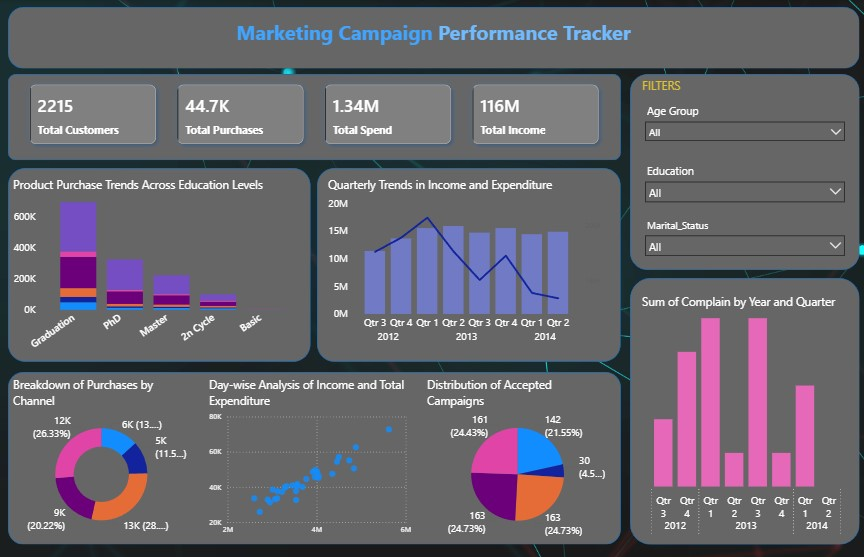

The page's visual inventory and layout, read from the dashboard file:
{"tool":"powerbi","page":{"name":"Page 1","canvas":[1400,900],"ordinal":0},"visuals":[{"type":"shape","box":[1017.5,121.1,370.5,316.3],"z":0},{"type":"shape","box":[1017.5,450,370.5,430.1],"z":1000},{"type":"shape","box":[14.5,601.8,988.6,278.3],"z":2000},{"type":"shape","box":[513.3,272.9,489.8,312.7],"z":3000},{"type":"shape","box":[14.5,272.9,488,312.7],"z":4000},{"type":"shape","box":[14.5,121.1,988.6,139.2],"z":5000},{"type":"shape","box":[14.5,12.7,1373.5,99.4],"z":6000},{"type":"clusteredColumnChart","fields":{"Category":["marketing_data.Dt_Customer.Variation.Date Hierarchy.Year","marketing_data.Dt_Customer.Variation.Date Hierarchy.Quarter"],"Y":["Sum(marketing_data.Complain)"]},"box":[1031.9,475.3,341.6,397.6],"z":7000},{"type":"pieChart","title":"Distribution of Accepted Campaigns","fields":{"Y":["Sum(marketing_data.AcceptedCmp1)","Sum(marketing_data.AcceptedCmp2)","Sum(marketing_data.AcceptedCmp3)","Sum(marketing_data.AcceptedCmp4)","Sum(marketing_data.AcceptedCmp5)"]},"box":[684.9,609,301.8,263.9],"z":8000},{"type":"donutChart","title":"Breakdown of Purchases by Channel","fields":{"Y":["Sum(marketing_data.NumCatalogPurchases)","Sum(marketing_data.NumDealsPurchases)","Sum(marketing_data.NumStorePurchases)","Sum(marketing_data.NumWebPurchases)","Sum(marketing_data.NumWebVisitsMonth)"]},"box":[18.1,609,294.6,263.9],"z":9000},{"type":"lineClusteredColumnComboChart","title":"Quarterly Trends in Income and Expenditure","fields":{"Y":["Sum(marketing_data.Income)"],"Category":["marketing_data.Dt_Customer.Variation.Date Hierarchy.Year","marketing_data.Dt_Customer.Variation.Date Hierarchy.Quarter"],"Y2":["Sum(marketing_data.TotalSpend)"]},"box":[525.9,287.3,460.8,281.9],"z":10000},{"type":"lineStackedColumnComboChart","title":"Product Purchase Trends Across Education Levels","fields":{"Category":["marketing_data.Education"],"Y":["Sum(marketing_data.MntFishProducts)","Sum(marketing_data.MntFruits)","Sum(marketing_data.MntGoldProds)","Sum(marketing_data.MntMeatProducts)","Sum(marketing_data.MntSweetProducts)","Sum(marketing_data.MntWines)"]},"box":[18.1,287.3,477.1,298.2],"z":11000},{"type":"scatterChart","title":"Day-wise Analysis of Income and Total Expenditure","fields":{"X":["Sum(marketing_data.Income)"],"Category":["marketing_data.Dt_Customer.Variation.Date Hierarchy.Day"],"Y":["Sum(marketing_data.TotalSpend)"]},"box":[334.3,609,336.1,263.9],"z":12000},{"type":"cardVisual","fields":{"Data":["CountNonNull(marketing_data.ID)","Sum(marketing_data.TotalPurchases)","Sum(marketing_data.TotalSpend)","Sum(marketing_data.Income)"]},"box":[32.5,121.1,954.2,130.1],"z":13000},{"type":"textbox","box":[356,25.3,688.6,75.9],"z":14000},{"type":"slicer","fields":{"Values":["marketing_data.Age Group"]},"box":[1031.9,162.7,341.6,88.6],"z":15000},{"type":"slicer","fields":{"Values":["marketing_data.Education"]},"box":[1031.9,260.2,341.6,88.6],"z":16000},{"type":"slicer","fields":{"Values":["marketing_data.Marital_Status"]},"box":[1031.9,348.8,341.6,79.5],"z":17000},{"type":"textbox","box":[1031.9,121.1,122.9,41.6],"z":17001}]}

Visuals, with their boxes in screenshot pixels (x1, y1, x2, y2), scaled from the page's 1400x900 canvas onto the 864x557 screenshot:
shape: <bbox>628, 75, 857, 271</bbox>
shape: <bbox>628, 278, 857, 545</bbox>
shape: <bbox>9, 372, 619, 545</bbox>
shape: <bbox>317, 169, 619, 362</bbox>
shape: <bbox>9, 169, 310, 362</bbox>
shape: <bbox>9, 75, 619, 161</bbox>
shape: <bbox>9, 8, 857, 69</bbox>
clusteredColumnChart - marketing_data.Dt_Customer.Variation.Date Hierarchy.Year x marketing_data.Dt_Customer.Variation.Date Hierarchy.Quarter: <bbox>637, 294, 848, 540</bbox>
"Distribution of Accepted Campaigns" pieChart: <bbox>423, 377, 609, 540</bbox>
"Breakdown of Purchases by Channel" donutChart: <bbox>11, 377, 193, 540</bbox>
"Quarterly Trends in Income and Expenditure" lineClusteredColumnComboChart: <bbox>325, 178, 609, 352</bbox>
"Product Purchase Trends Across Education Levels" lineStackedColumnComboChart: <bbox>11, 178, 306, 362</bbox>
"Day-wise Analysis of Income and Total Expenditure" scatterChart: <bbox>206, 377, 414, 540</bbox>
cardVisual - CountNonNull(marketing_data.ID) x Sum(marketing_data.TotalPurchases): <bbox>20, 75, 609, 155</bbox>
textbox: <bbox>220, 16, 645, 63</bbox>
slicer - marketing_data.Age Group: <bbox>637, 101, 848, 156</bbox>
slicer - marketing_data.Education: <bbox>637, 161, 848, 216</bbox>
slicer - marketing_data.Marital_Status: <bbox>637, 216, 848, 265</bbox>
textbox: <bbox>637, 75, 713, 101</bbox>
